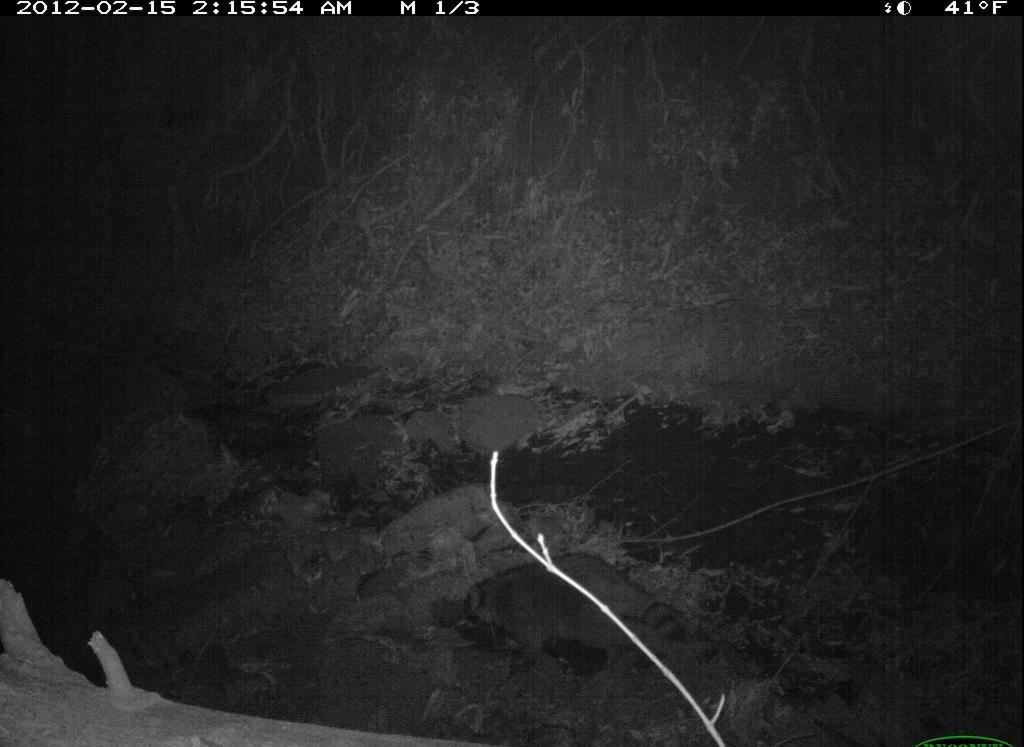raccoon: (454, 541, 701, 687)
